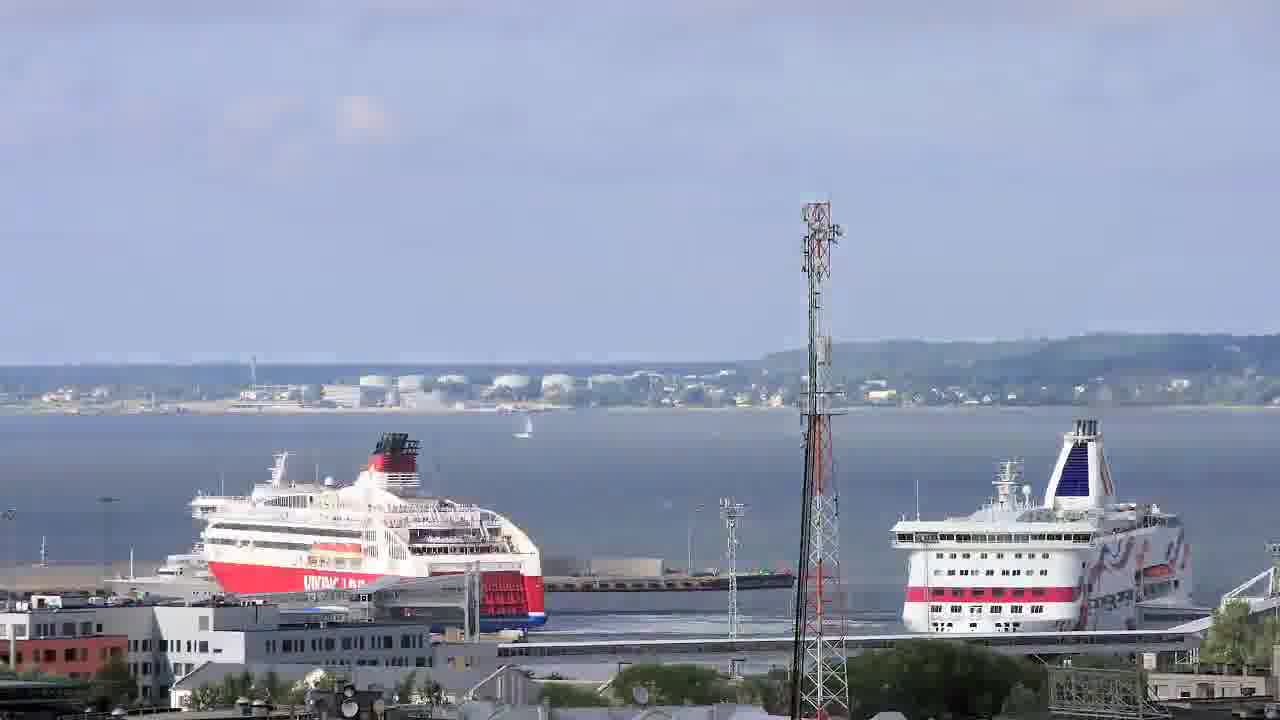type-2: (497, 400, 549, 454)
type-3: (868, 415, 1225, 638), (202, 442, 545, 625), (89, 530, 230, 613)
